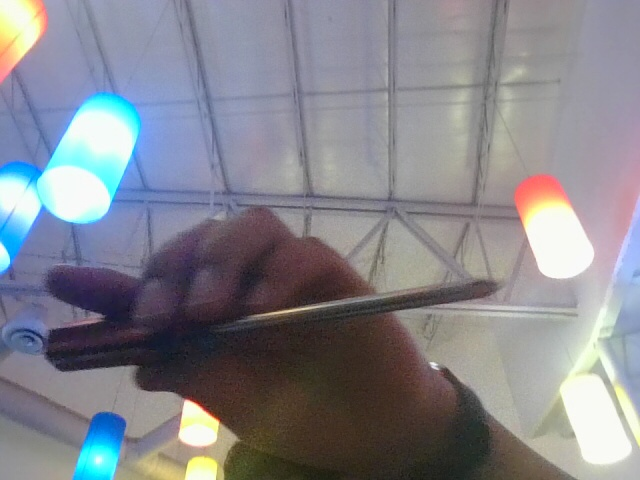destornillador: (36, 228, 506, 423)
